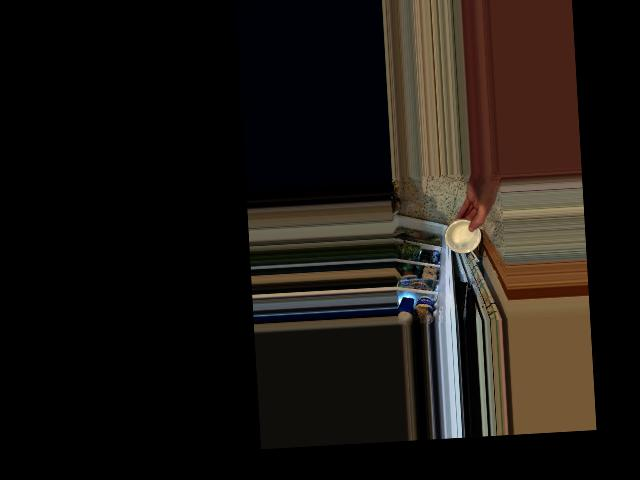cotage: (444, 216, 479, 255)
